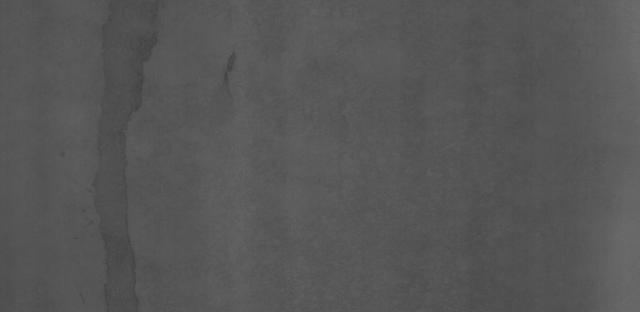water_spot: (82, 16, 196, 303)
